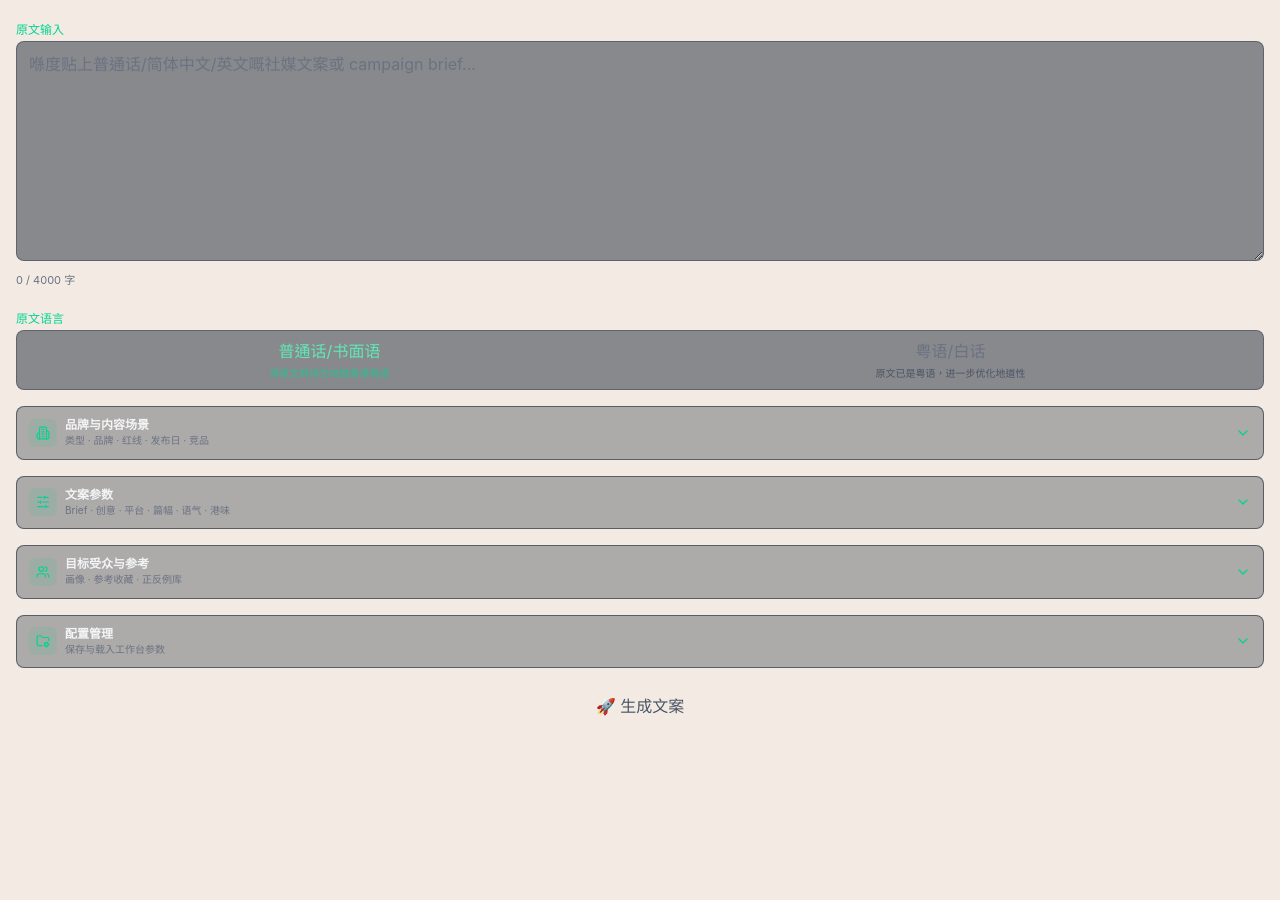
Test case: 工作台左侧四大折叠页 › 点击折叠头可切换 aria-expanded，组件仍在 DOM
This screenshot has width=1280, height=900.
What coordinates should you click on to do the following:
click the button "目标受众与参考 画像 · 参考收藏 · 正反例库"
I would click on:
 (107, 564)
Its box is 17,546 -> 1263,598.
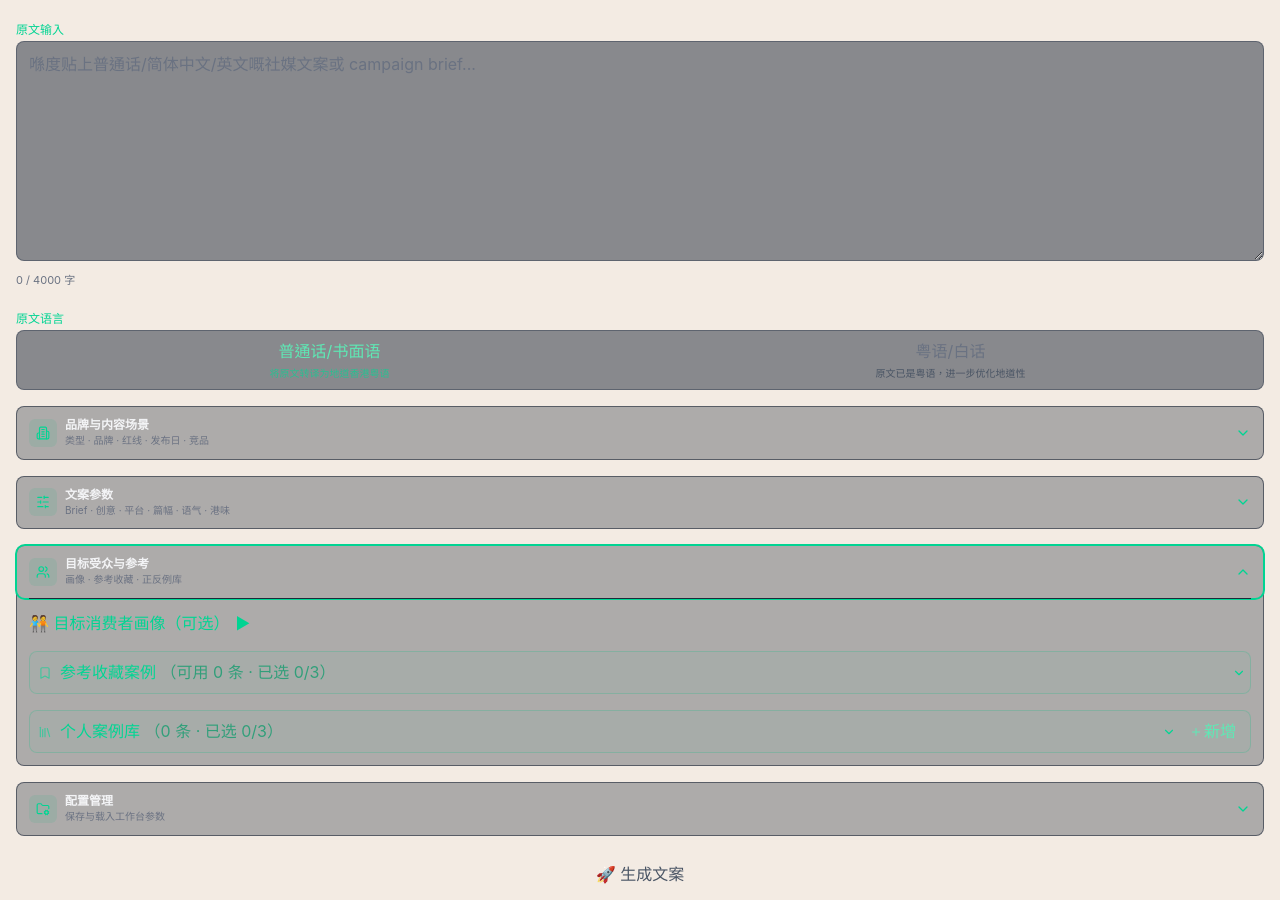
Now the button "目标受众与参考 画像 · 参考收藏 · 正反例库" is expanded
What coordinates should you click on to do the following:
click the button "目标受众与参考 画像 · 参考收藏 · 正反例库"
I would click on:
 (107, 564)
Its box is 17,546 -> 1263,598.
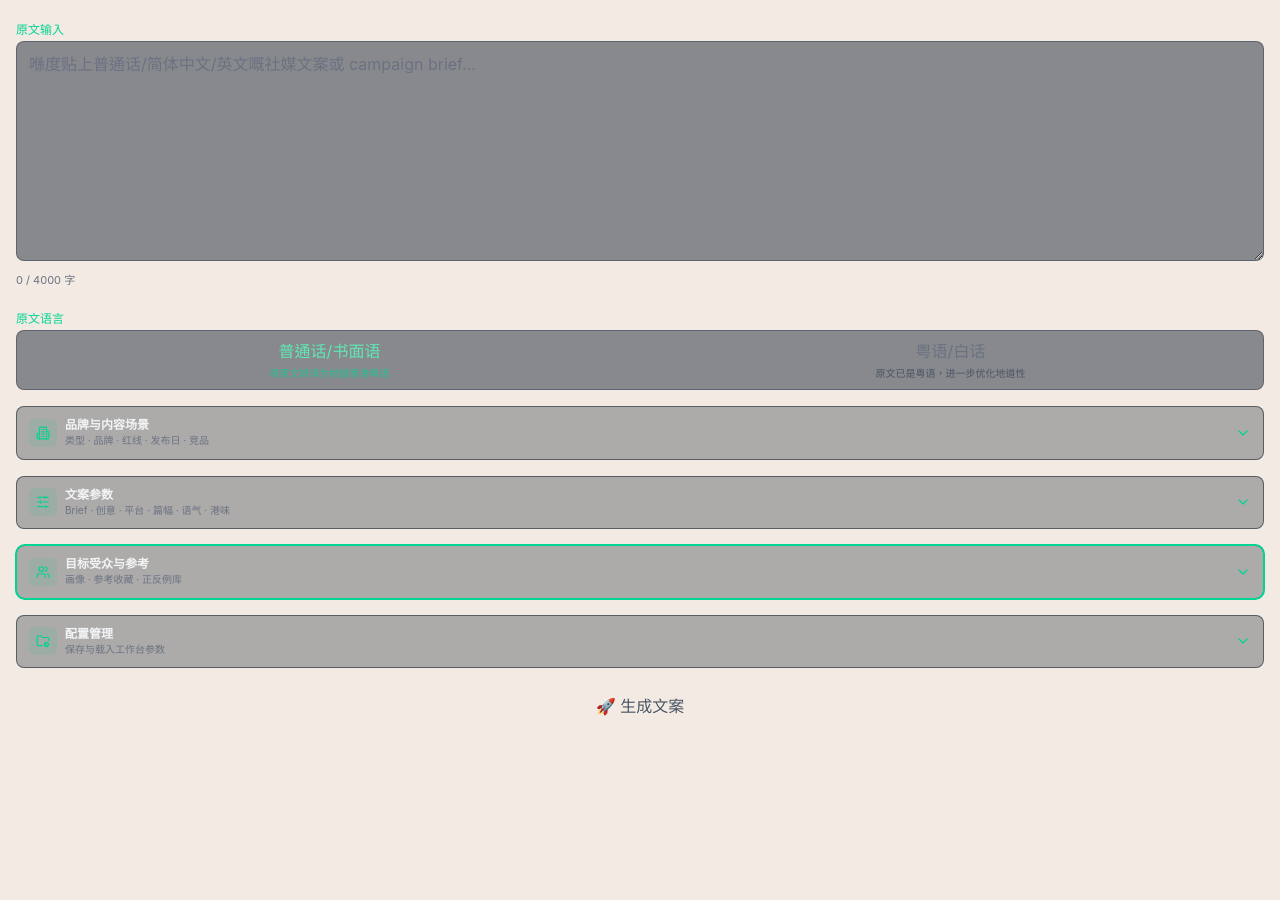
Expected: the text "目标受众与参考" is shown, 65,556 -> 149,571
Now the button "目标受众与参考 画像 · 参考收藏 · 正反例库" is collapsed, box 17,546 -> 1263,598
